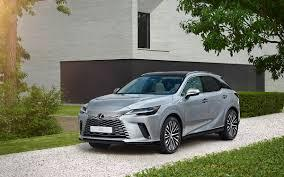lexus: (96, 112, 105, 121)
